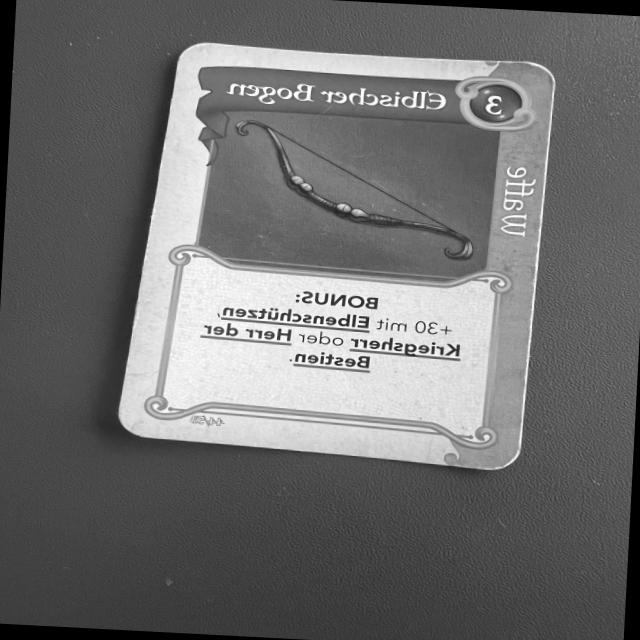Elven Longbow: (111, 40, 555, 474)
